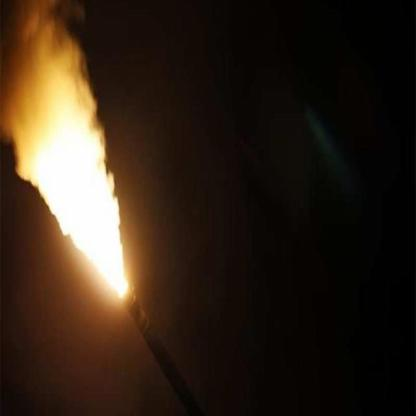MIL_TBM: (105, 279, 201, 416)
